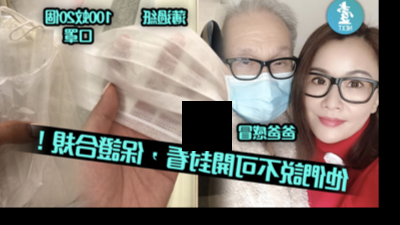with_mask: (225, 40, 298, 123)
without_mask: (303, 65, 374, 143)
